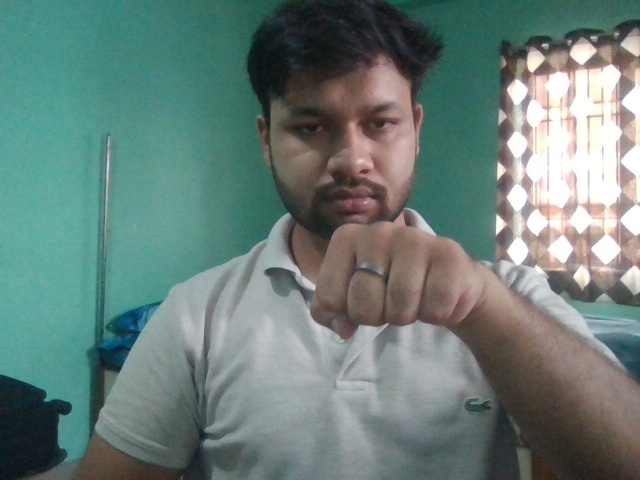Yes: (307, 219, 490, 342)
